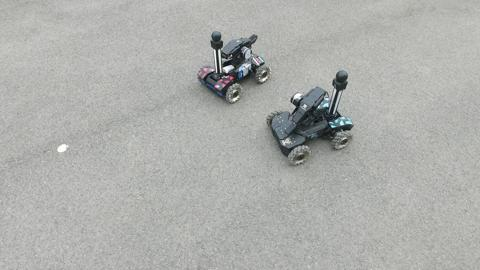chariot: (258, 66, 357, 167), (191, 27, 277, 104)
